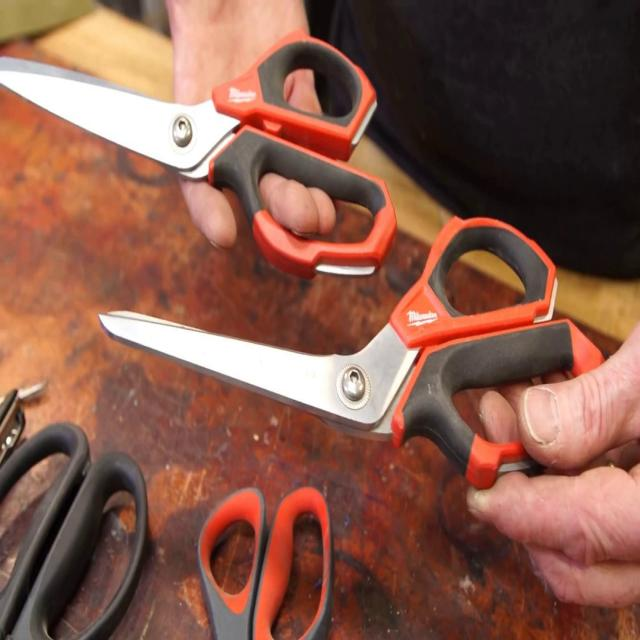scissor: (111, 213, 604, 493), (0, 31, 397, 277), (0, 418, 148, 640), (193, 489, 334, 640)
